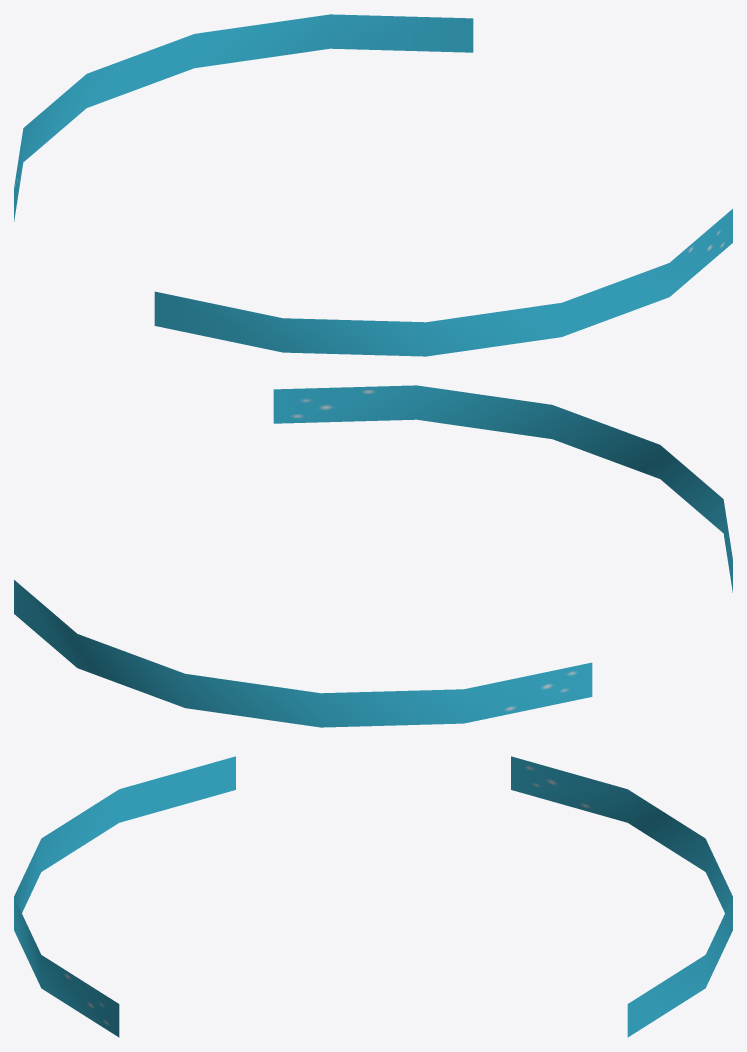
The model's file is bg_stars.obj.
The picture shows the model from 3 angles, top to bottom: view 1: azimuth 30°, elevation 25°; view 2: azimuth 150°, elevation 25°; view 3: azimuth 270°, elevation 25°; orthographic projection. The views are drawn at different scales.
Parts seen in each view (by area): view 1: pCylinder_tria; view 2: pCylinder_tria; view 3: pCylinder_tria.
Part boxes in pixels (<box>): pCylinder_tria: <box>14,14,732,356</box>; pCylinder_tria: <box>14,385,732,727</box>; pCylinder_tria: <box>14,756,732,1037</box>.
Size of the model in its own units: 22000 by 1392 by 26978.
